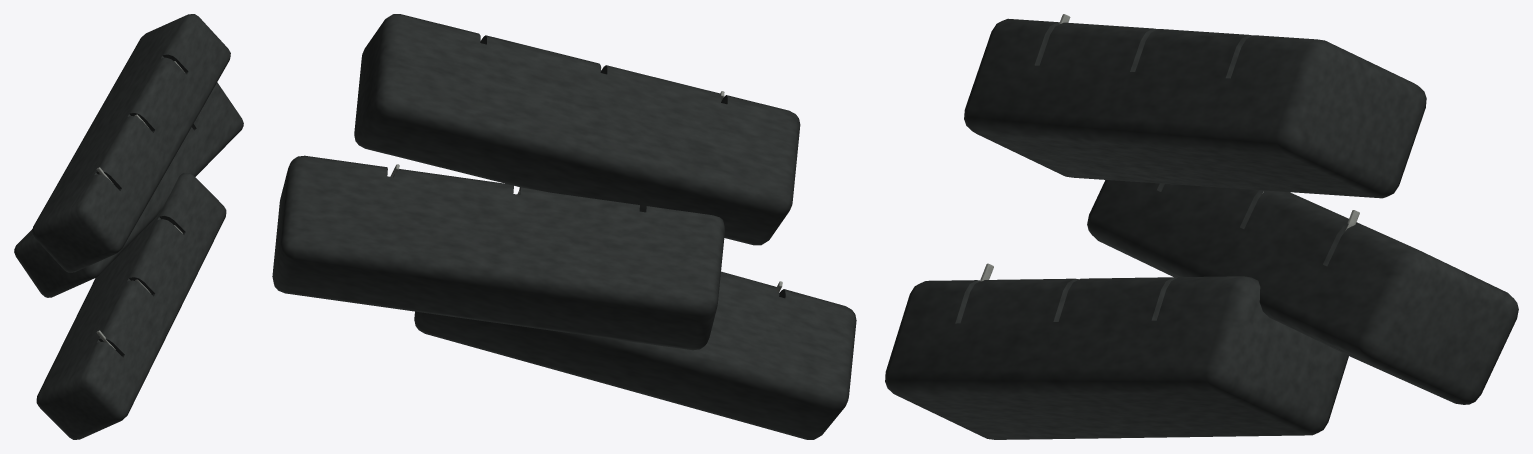
3 views of the same model, side by side, from view 1: azimuth 30°, elevation 25°; view 2: azimuth 150°, elevation 25°; view 3: azimuth 270°, elevation 25° (orthographic). The views are drawn at different scales.
Visible parts, largest first — view 1: Charred timber chunk 0; view 2: Charred timber chunk 0; view 3: Charred timber chunk 0.
Boxes of the visible parts, left/top/right/bottom form: Charred timber chunk 0: left=14, top=14, right=243, bottom=439; Charred timber chunk 0: left=272, top=14, right=856, bottom=439; Charred timber chunk 0: left=885, top=14, right=1518, bottom=439.
Size of the model in its own units: 1.16 by 1.15 by 1.14.
1 material, 1 textured.
